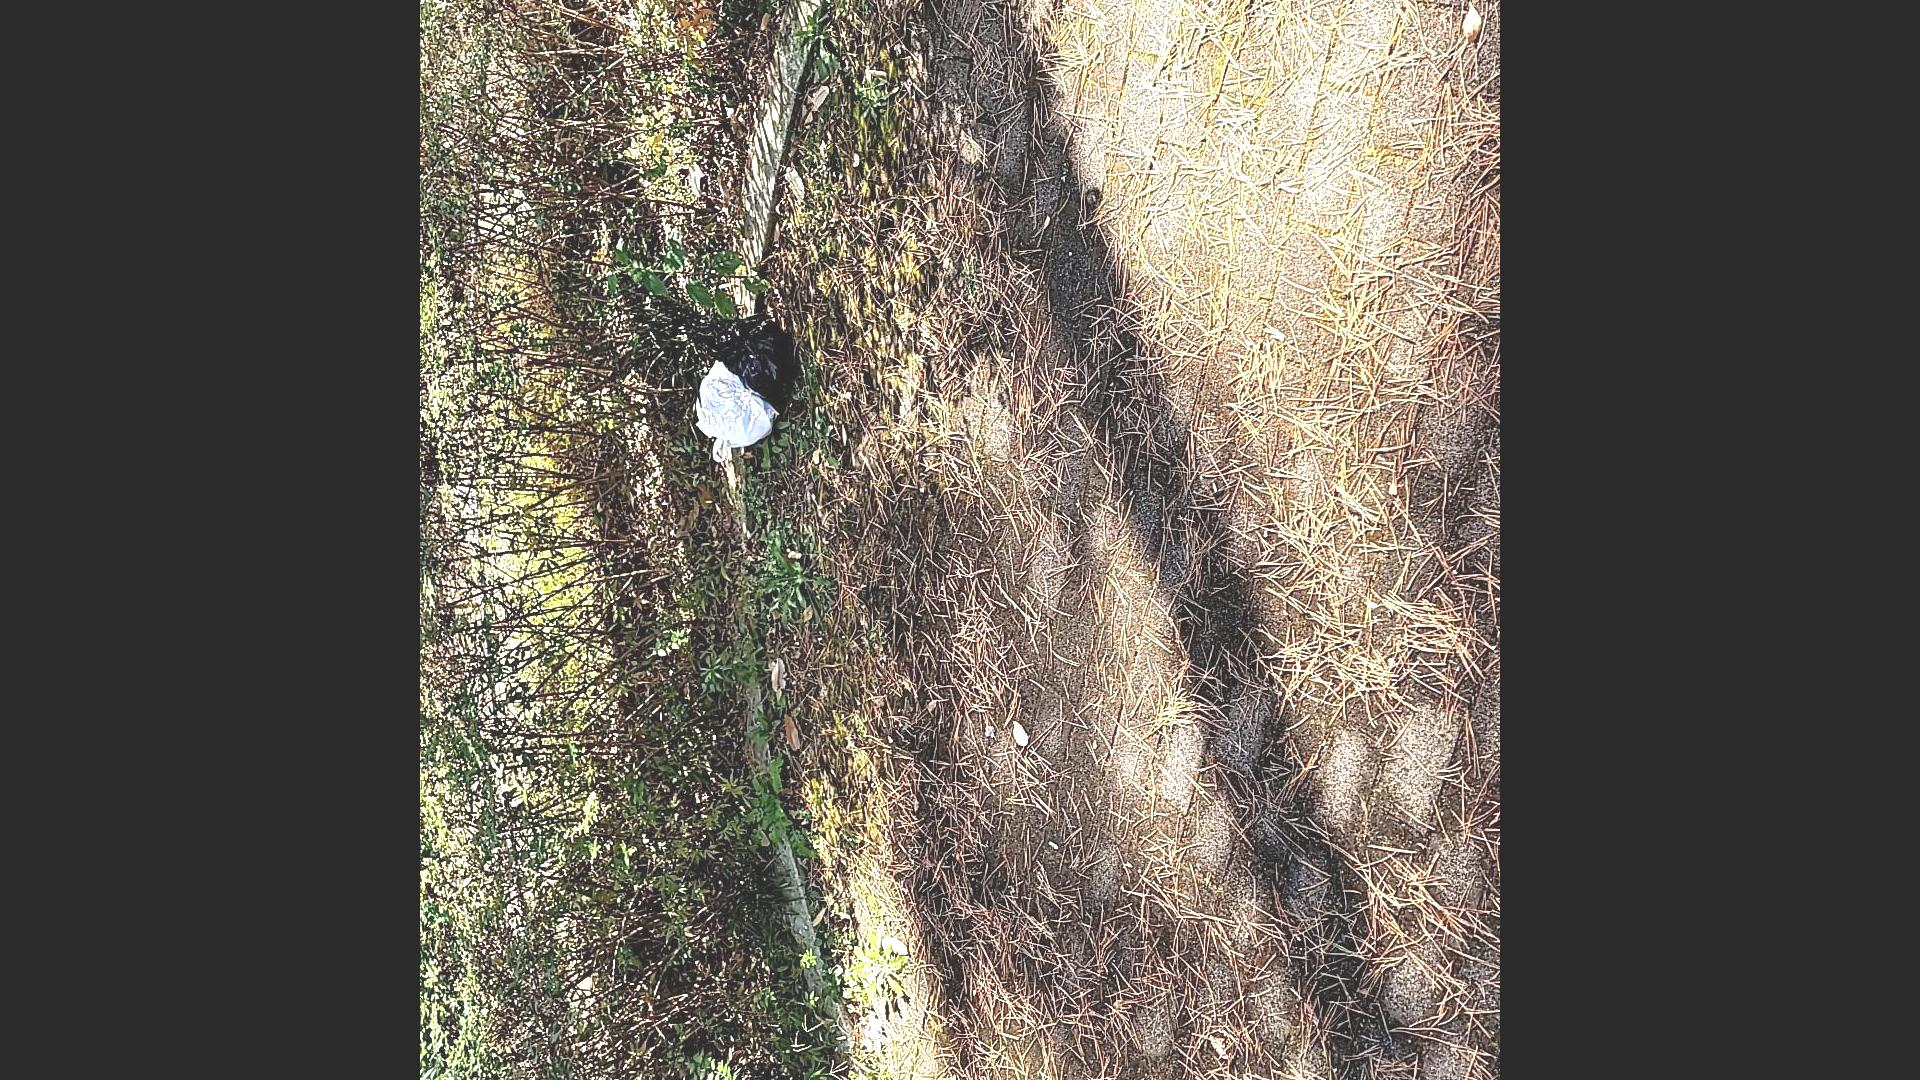black_bag: (713, 311, 795, 404)
white_bag: (688, 357, 775, 465)
